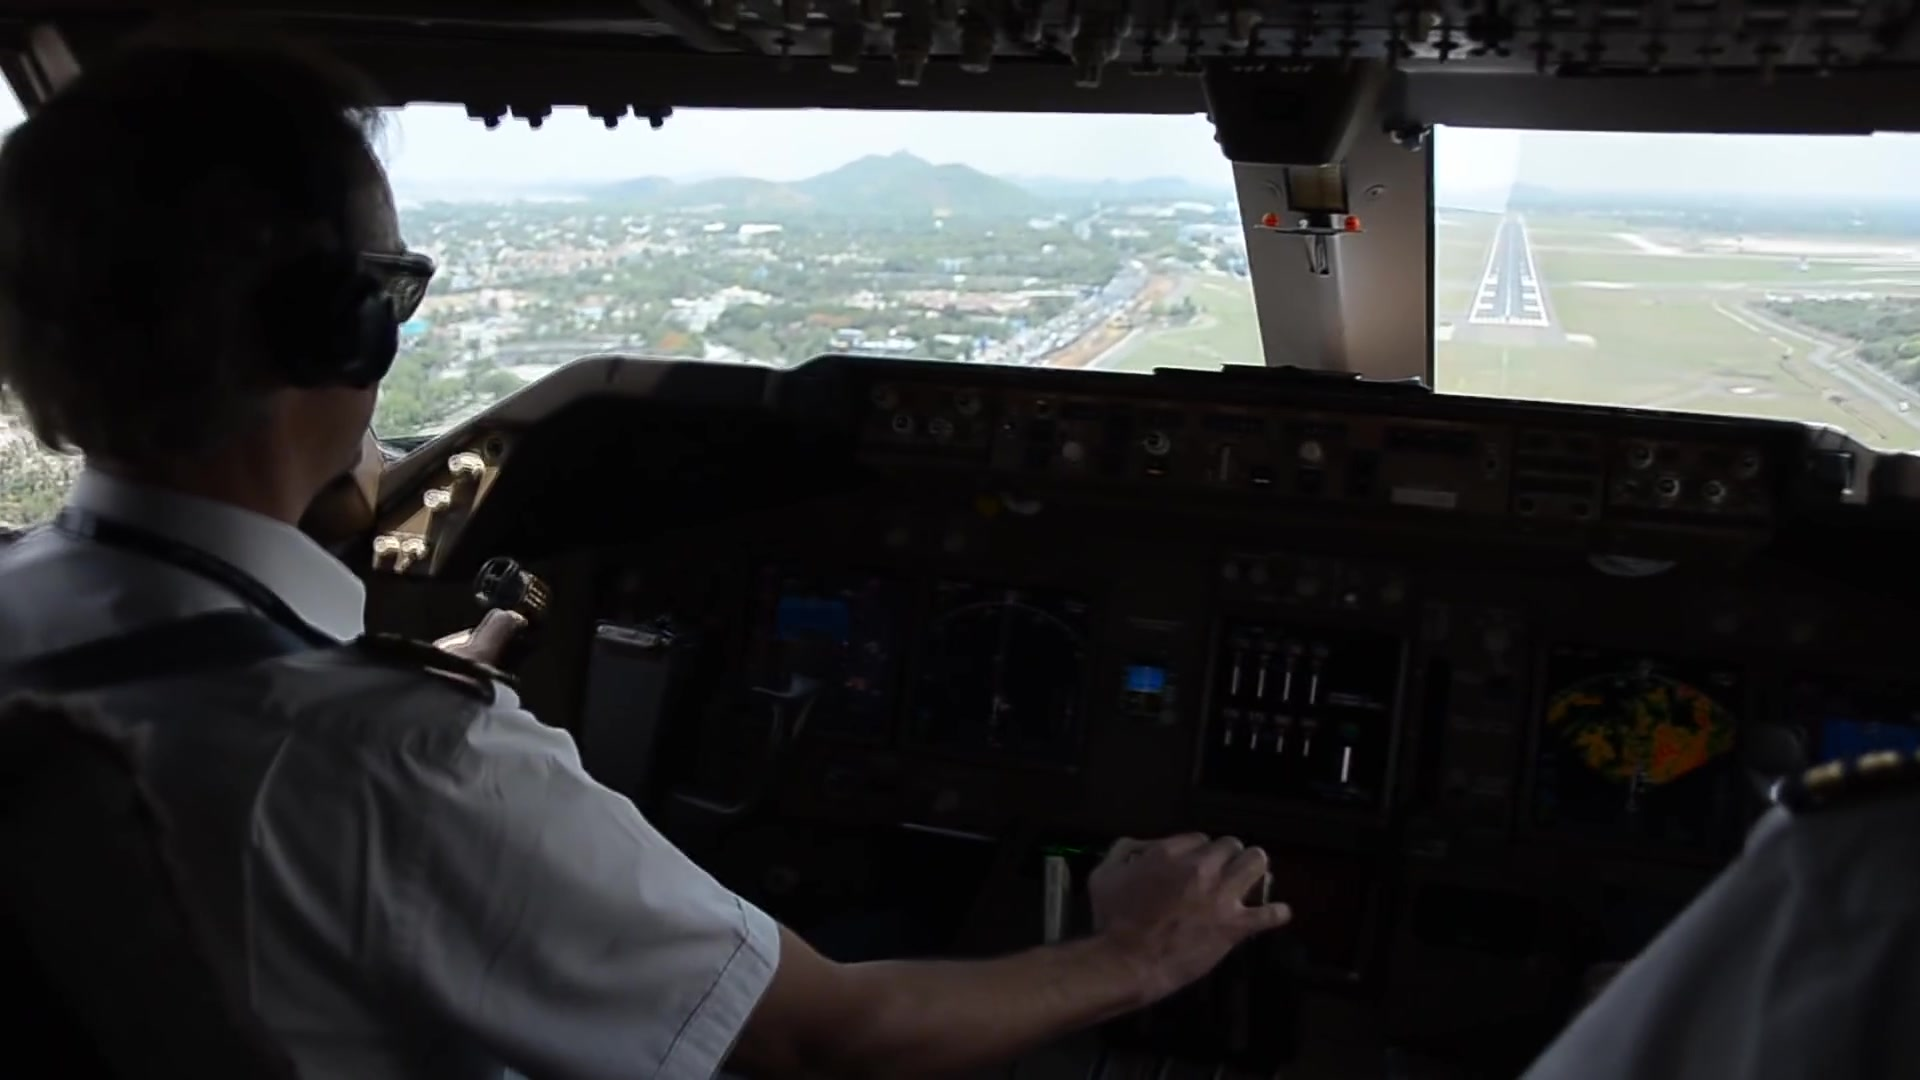entrance: (1472, 315, 1543, 327)
runway: (1456, 208, 1563, 340)
